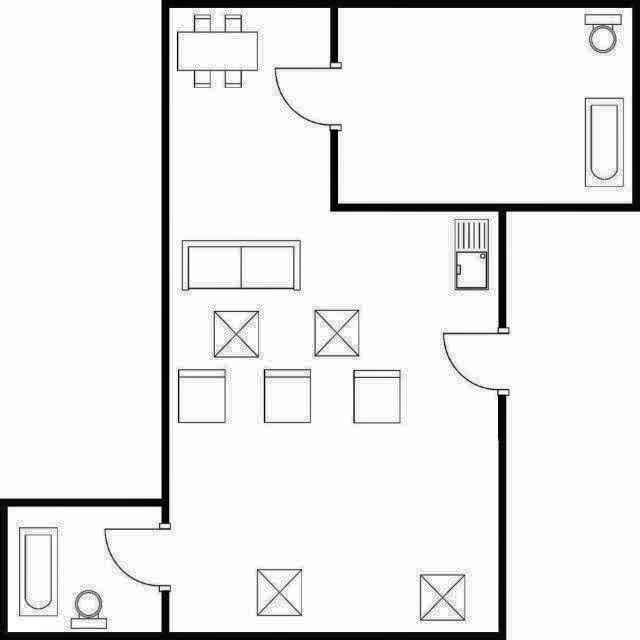room: (169, 8, 499, 632), (338, 8, 633, 204), (8, 507, 162, 631)
